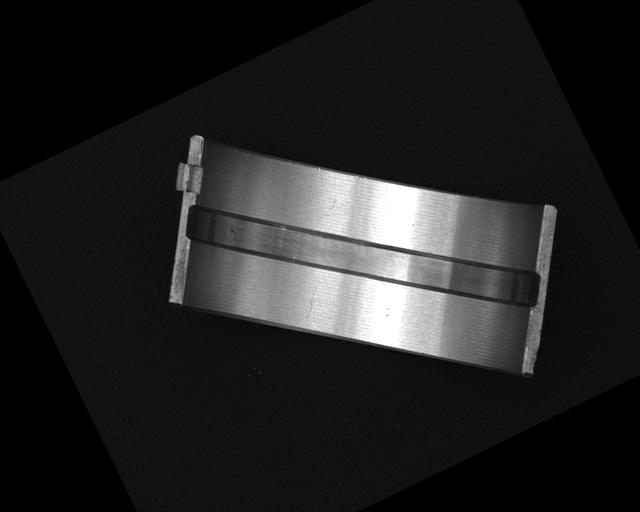gap: (177, 84, 550, 430)
nick: (295, 284, 329, 321)
